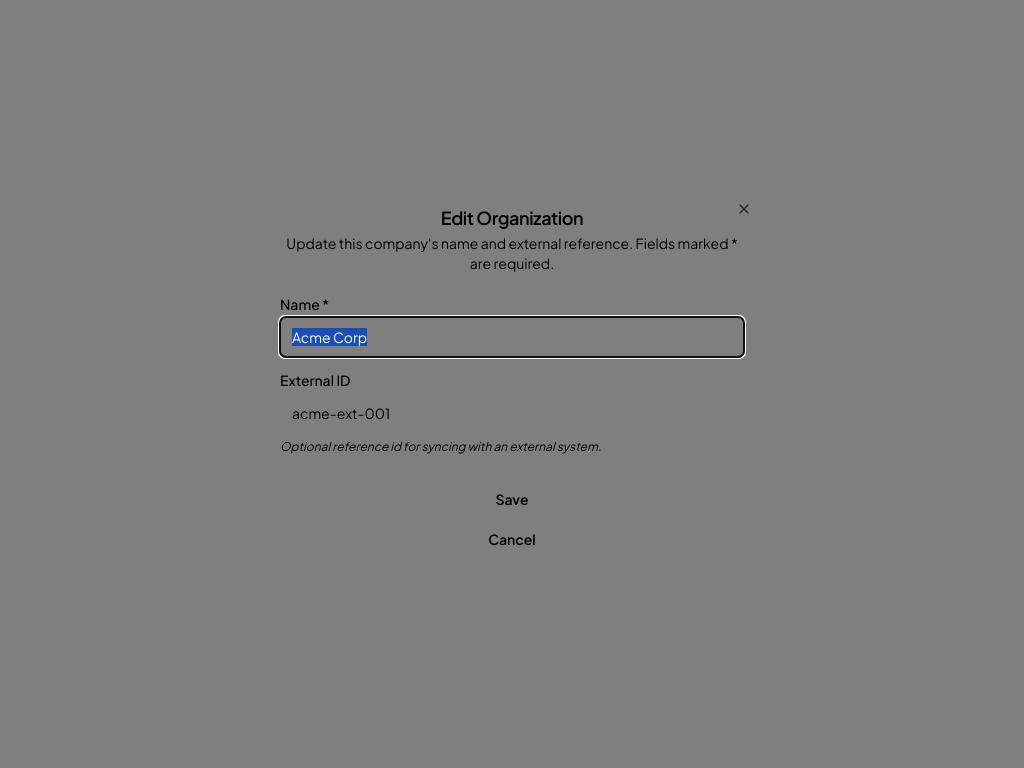
it: EditOrganizationModal › (4) failed PATCH shows specific error message and keeps modal open
Click the button "Save".
click(512, 499)  # box [280,479,744,519]
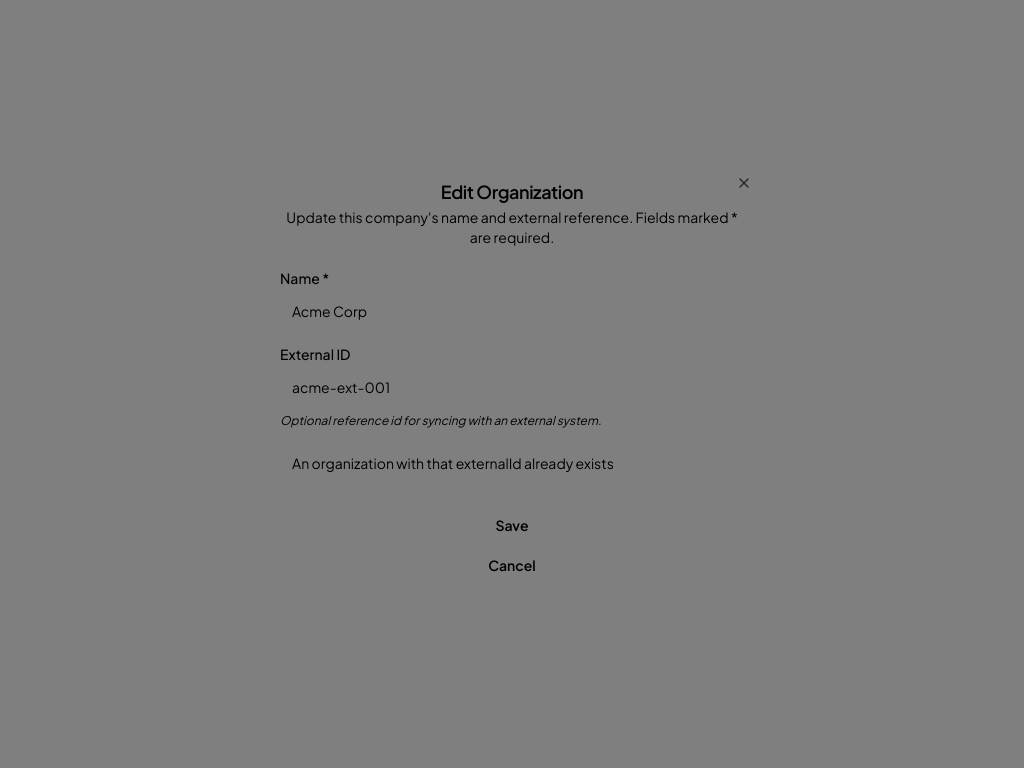
Check: the message reads "An organization with that externalId already exists", box [292,454,614,472]
